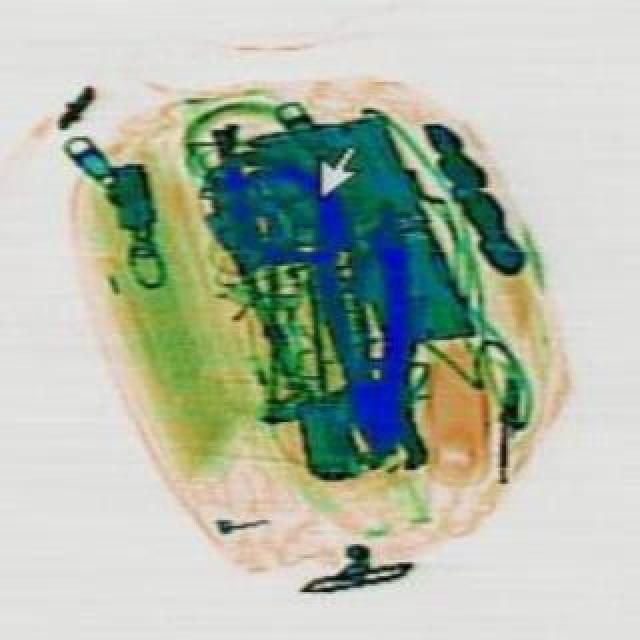wrench: (310, 236, 426, 466)
